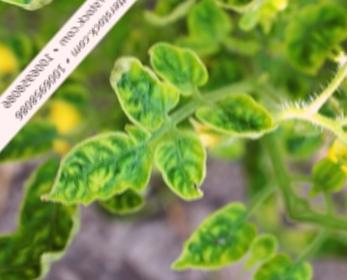Tomato leaf yellow virus: (19, 103, 168, 255), (141, 187, 274, 280), (87, 44, 195, 150), (132, 120, 231, 218), (193, 71, 290, 165)
